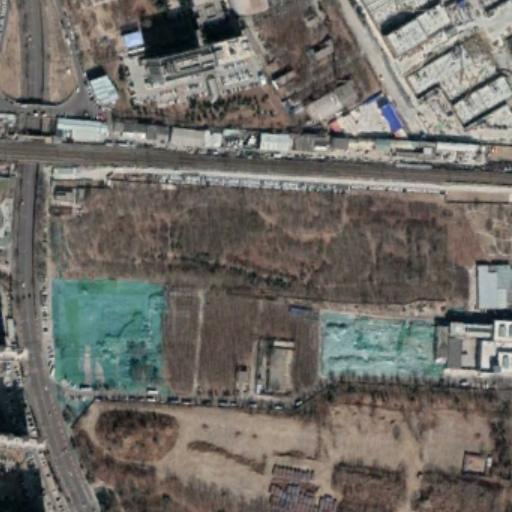cw: (47, 276, 172, 401), (316, 310, 443, 384)
